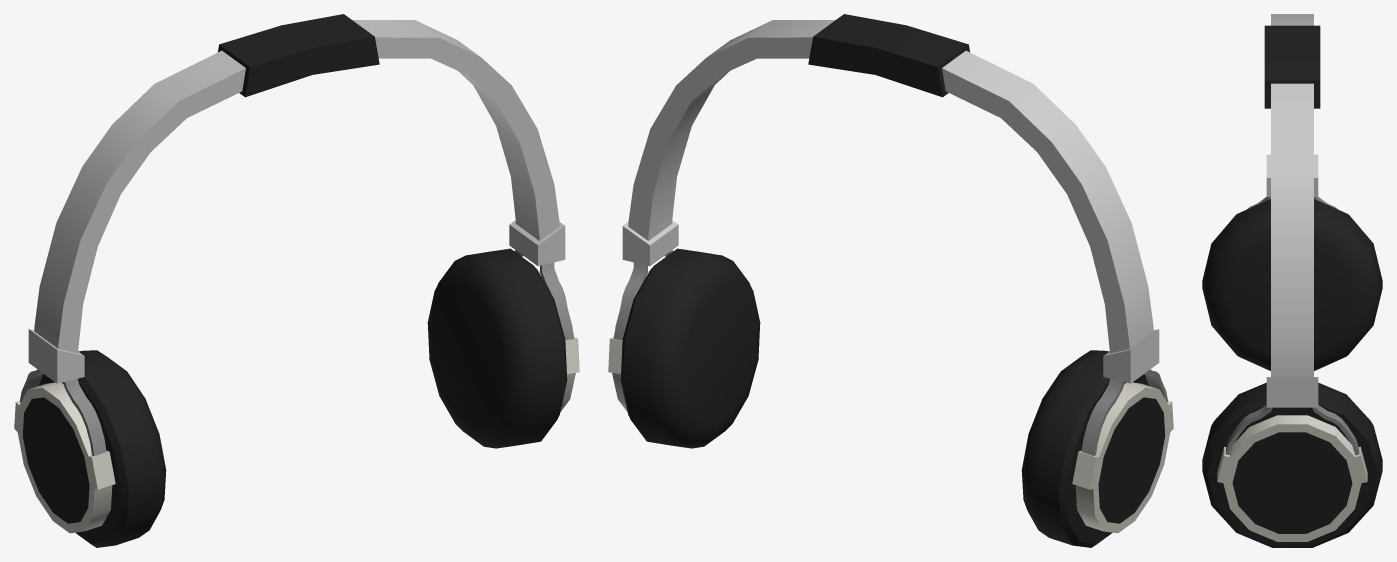
The model's file is headphones.glb.
3 renders of one model, left to right at view 1: azimuth 30°, elevation 25°; view 2: azimuth 150°, elevation 25°; view 3: azimuth 270°, elevation 25°, orthographic. The views are drawn at different scales.
Visible parts, largest first — view 1: Headset 1; view 2: Headset 1; view 3: Headset 1.
Boxes of the visible parts, x1,y1,x2,y2 form: Headset 1: (14, 14, 579, 547); Headset 1: (608, 14, 1173, 547); Headset 1: (1202, 14, 1382, 547).
Bounding box in the file's own units: 0.3045 × 0.2586 × 0.1041.
1 material, 1 textured.
